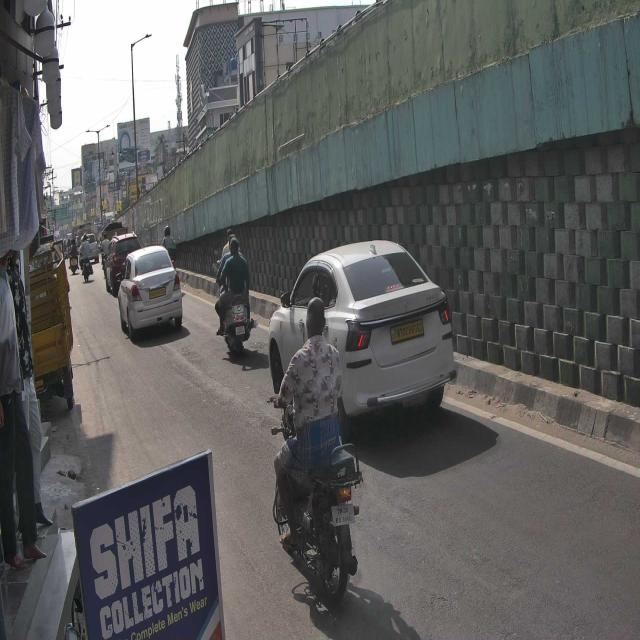single_rider: (266, 294, 362, 610)
